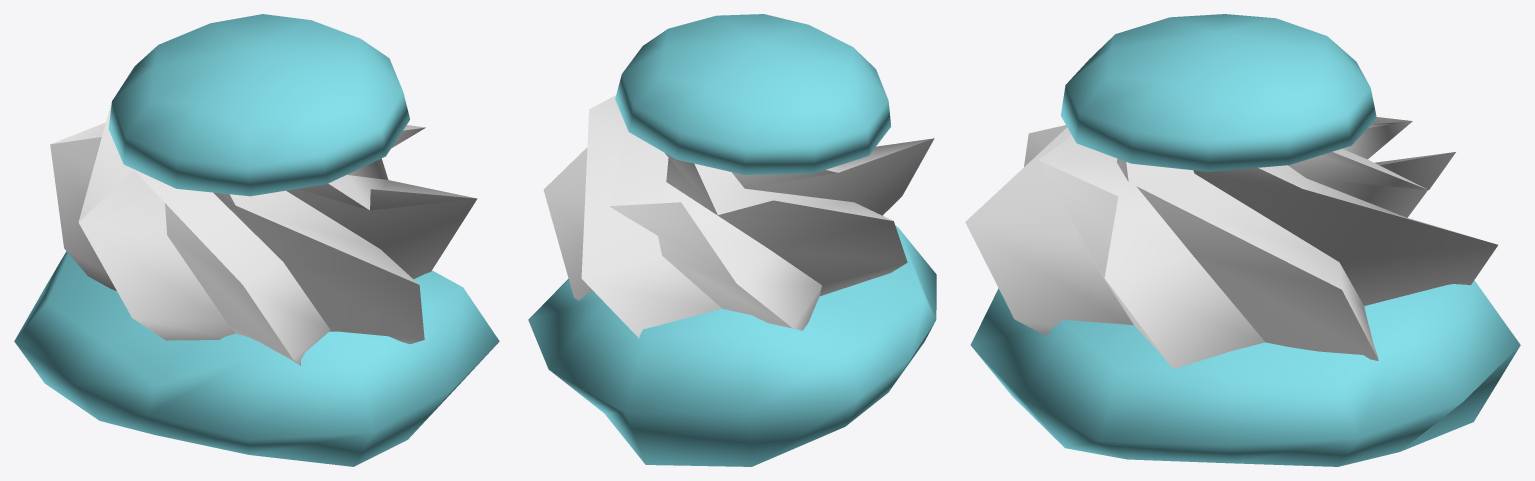
Rendered from 3D_PU_FrozenChouxPastry.fbx.
The picture shows the model from 3 angles, left to right: view 1: azimuth 30°, elevation 25°; view 2: azimuth 150°, elevation 25°; view 3: azimuth 270°, elevation 25°; orthographic projection. The views are drawn at different scales.
Parts seen in each view (by area): view 1: Meringue. gelee, Bombe Gelee.001, Bombe Gelee; view 2: Meringue. gelee, Bombe Gelee.001, Bombe Gelee; view 3: Meringue. gelee, Bombe Gelee.001, Bombe Gelee.
Part boxes in pixels (bbox=[...]): Meringue. gelee: bbox=[50, 100, 477, 365]; Bombe Gelee.001: bbox=[14, 251, 499, 466]; Bombe Gelee: bbox=[108, 14, 409, 196]; Meringue. gelee: bbox=[543, 95, 934, 338]; Bombe Gelee.001: bbox=[528, 215, 936, 466]; Bombe Gelee: bbox=[615, 14, 891, 174]; Meringue. gelee: bbox=[965, 117, 1497, 369]; Bombe Gelee.001: bbox=[970, 280, 1520, 466]; Bombe Gelee: bbox=[1060, 14, 1376, 171].
Bounding box in the file's own units: 0.7346 × 0.7424 × 0.906.
